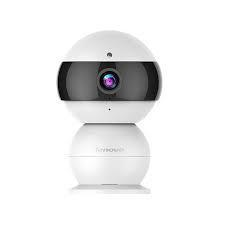maru: (58, 31, 161, 122)
